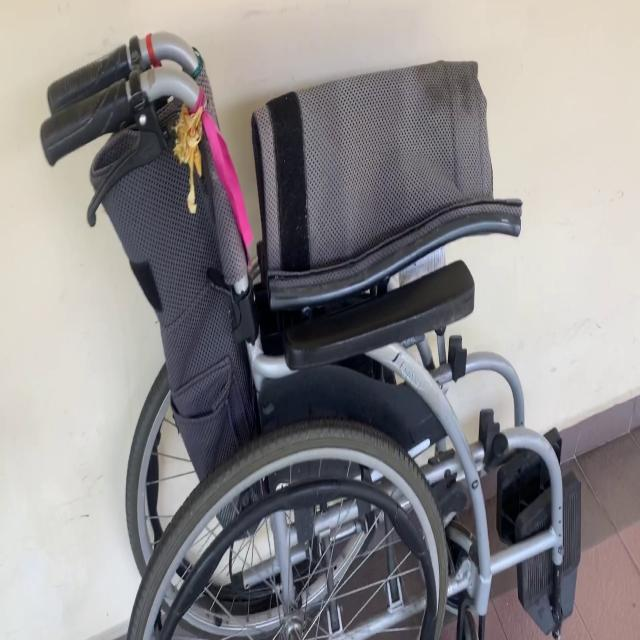wheelchair: (33, 21, 587, 640)
